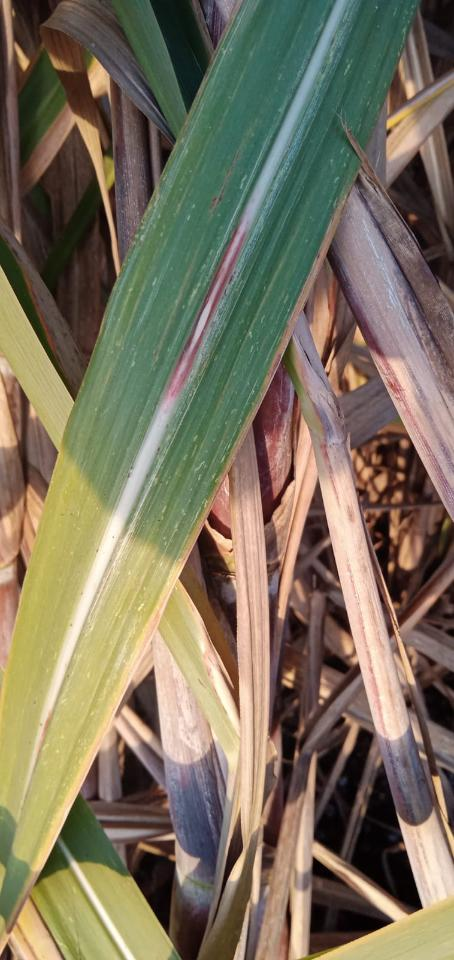RedRot: (163, 207, 252, 410)
